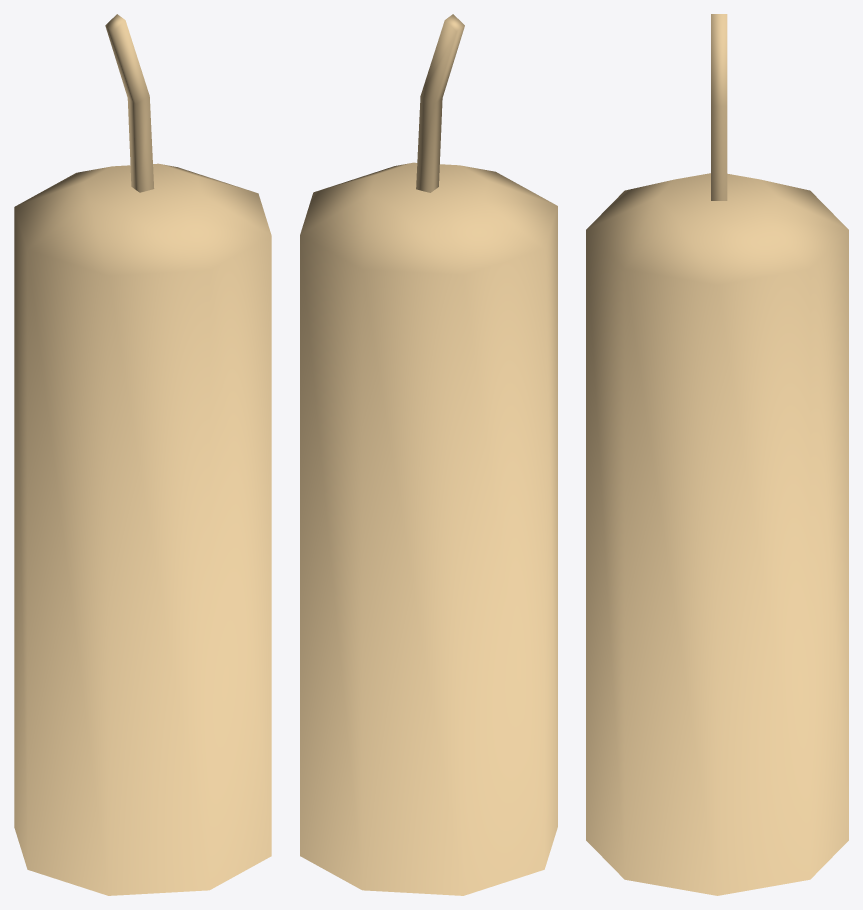
Rendered from prop_candle.glb.
The picture shows the model from 3 angles, left to right: view 1: azimuth 30°, elevation 25°; view 2: azimuth 150°, elevation 25°; view 3: azimuth 270°, elevation 25°; orthographic projection.
Parts seen in each view (by area): view 1: Props with out snow_Candle _0; view 2: Props with out snow_Candle _0; view 3: Props with out snow_Candle _0.
Part boxes in pixels (bbox=[...]): Props with out snow_Candle _0: bbox=[14, 14, 271, 895]; Props with out snow_Candle _0: bbox=[300, 14, 557, 895]; Props with out snow_Candle _0: bbox=[586, 14, 848, 895].
Bounding box in the file's own units: 0.1047 × 0.359 × 0.1047.
